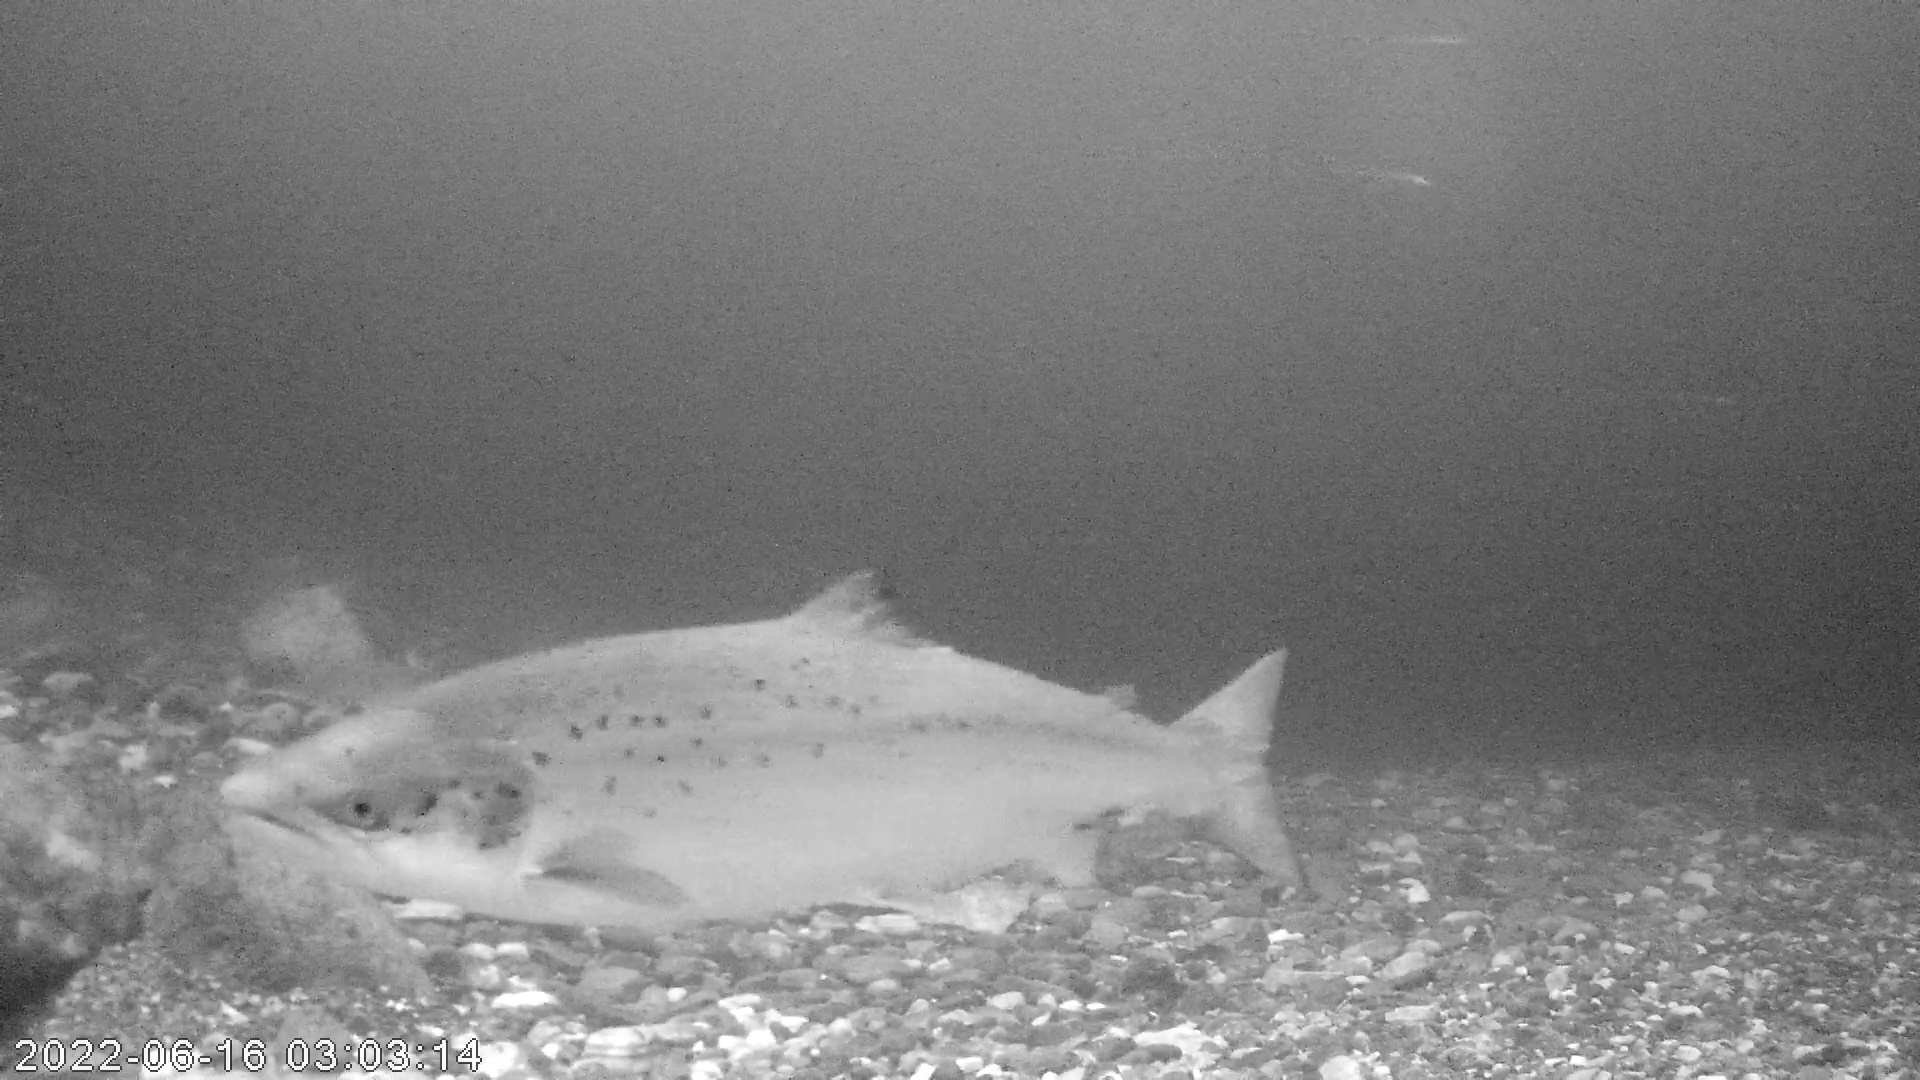salmon: (220, 566, 1308, 928)
